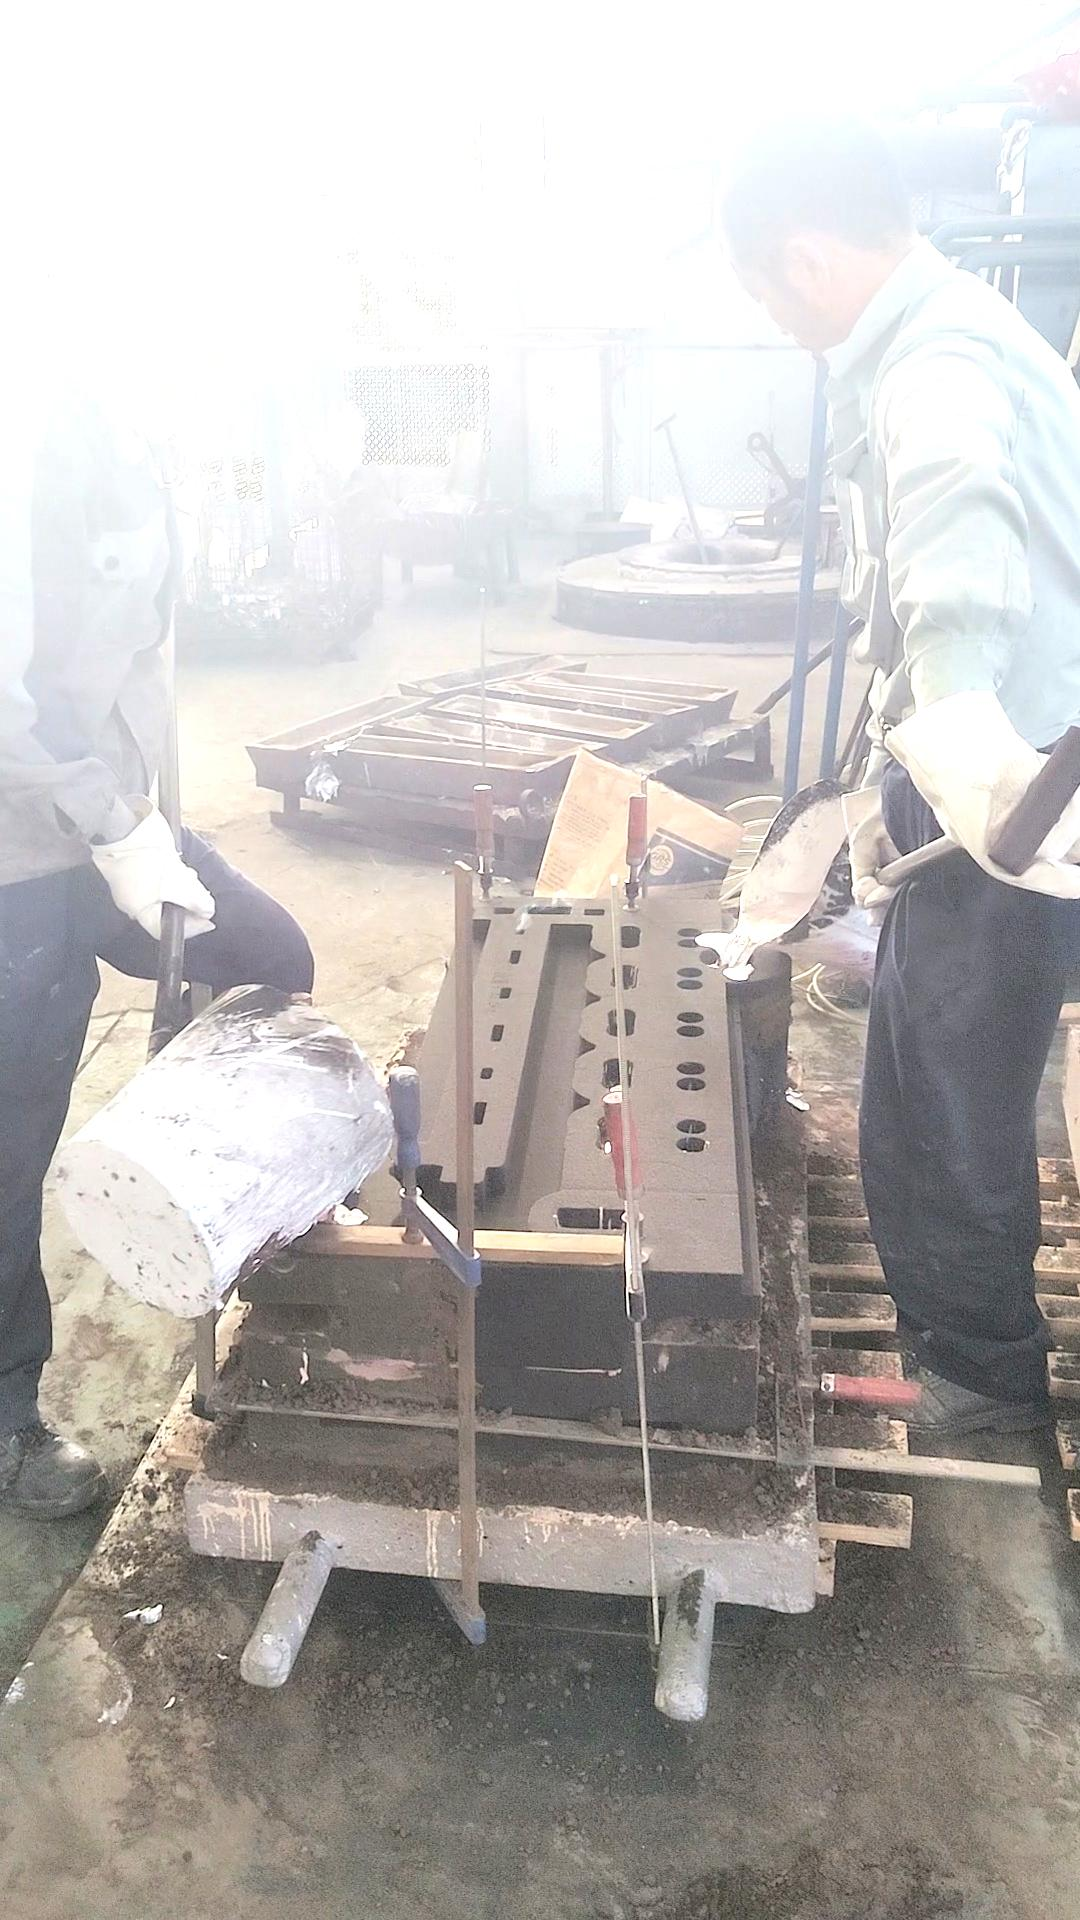pouring hole: (298, 1192, 367, 1225), (702, 943, 754, 971)
